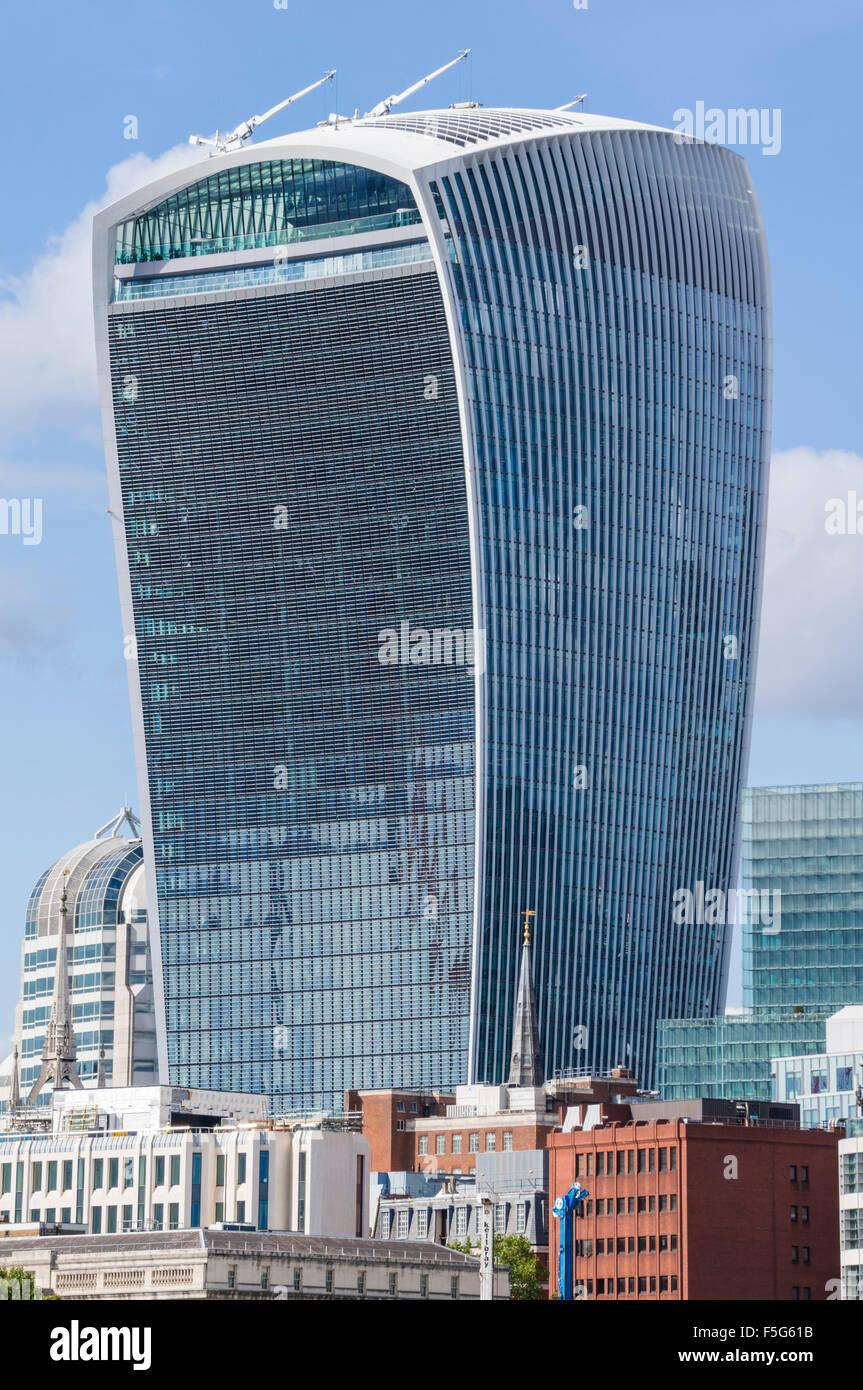Walkie talkie: (61, 74, 809, 1074)
